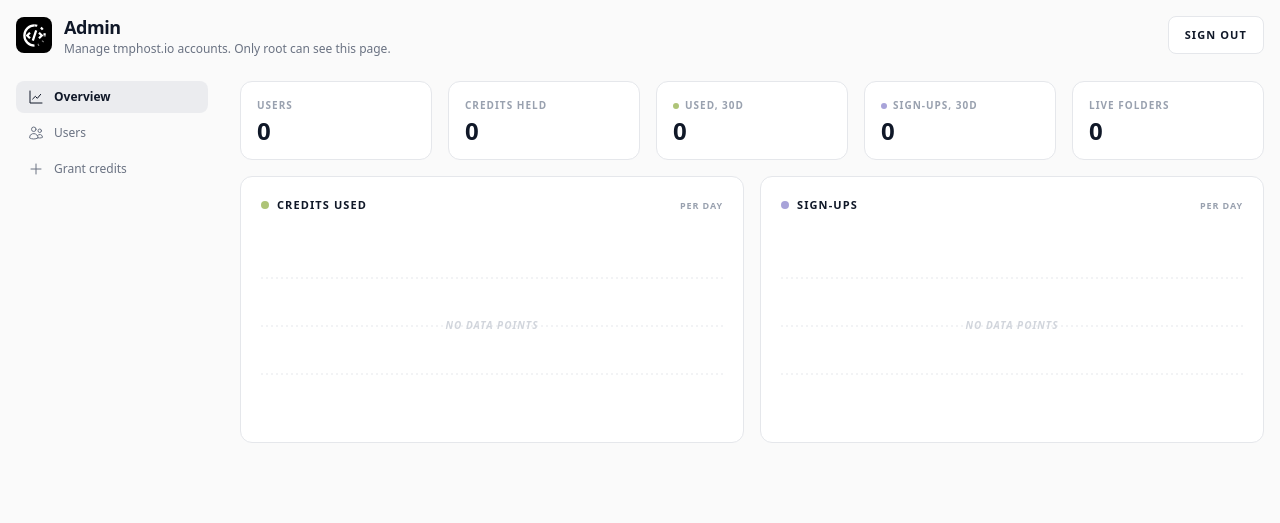
Test case: AdminView › grants credits to one user by email
Click the button with test id "admin-tab-grant".
click(112, 169)  # box [16,153,208,185]
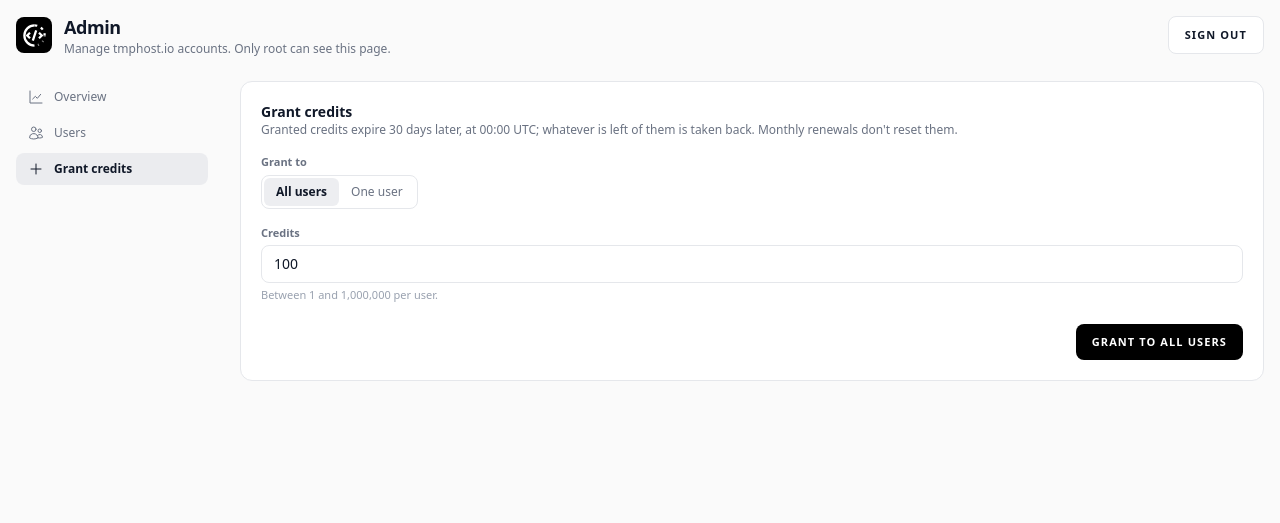
Click the radio button with test id "admin-target-one".
click(377, 192)  # box [339,178,415,206]
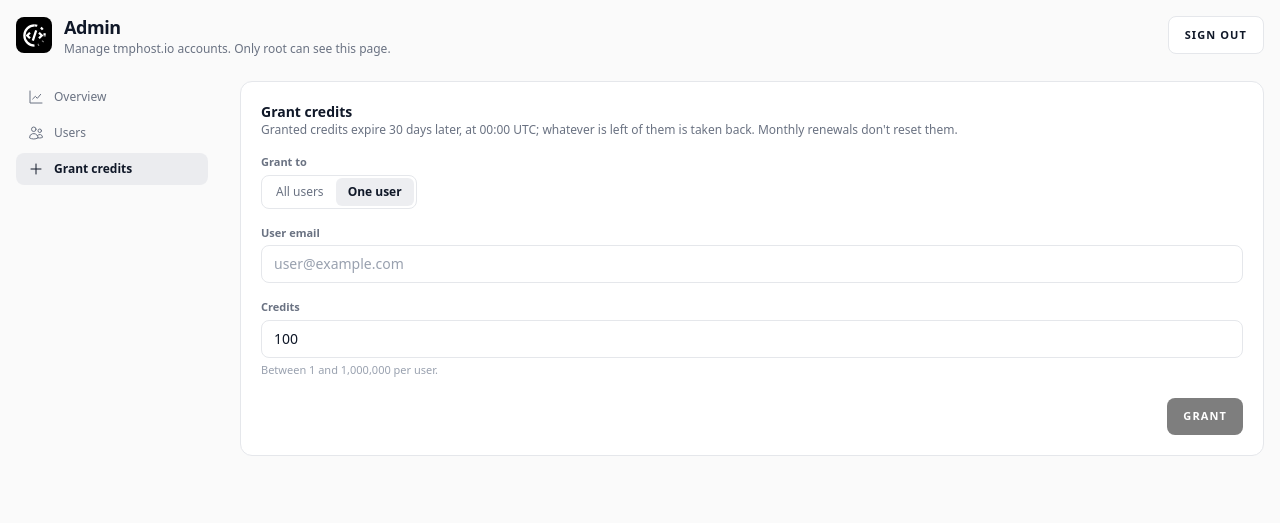
Check: the button with test id "admin-grant-submit" reads "Grant", box [1167,398,1243,434]
Check: the button with test id "admin-grant-submit" is disabled, box [1167,398,1243,434]
Type " a@b.c " into the field with test id "admin-email".
click(752, 264); type(" a@b.c ")  # box [261,245,1243,283]
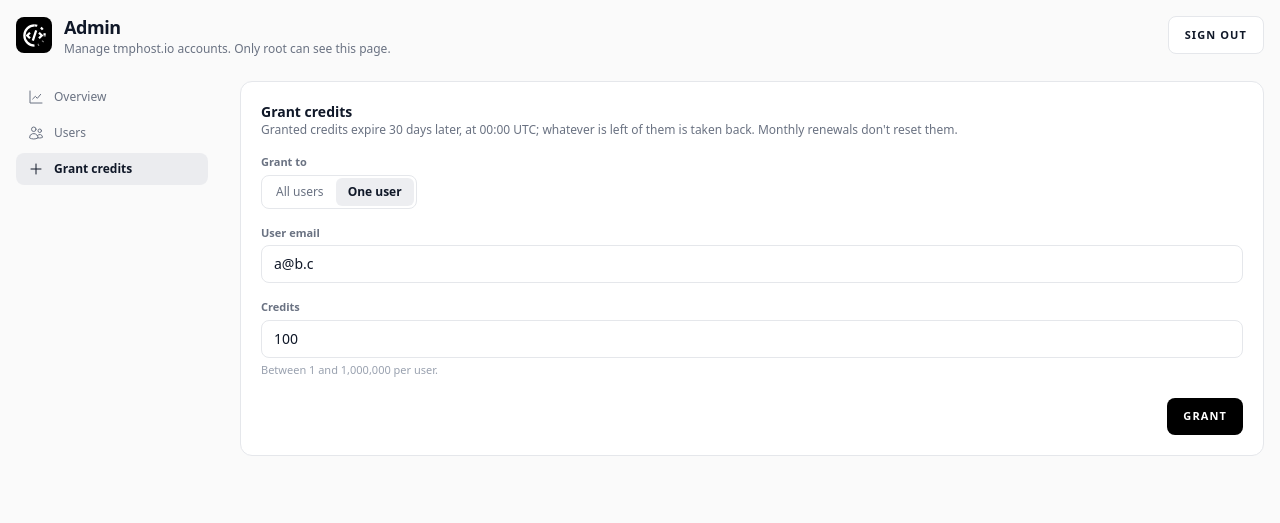
Submit the form with test id "admin-grant", box [240,81,1264,456]
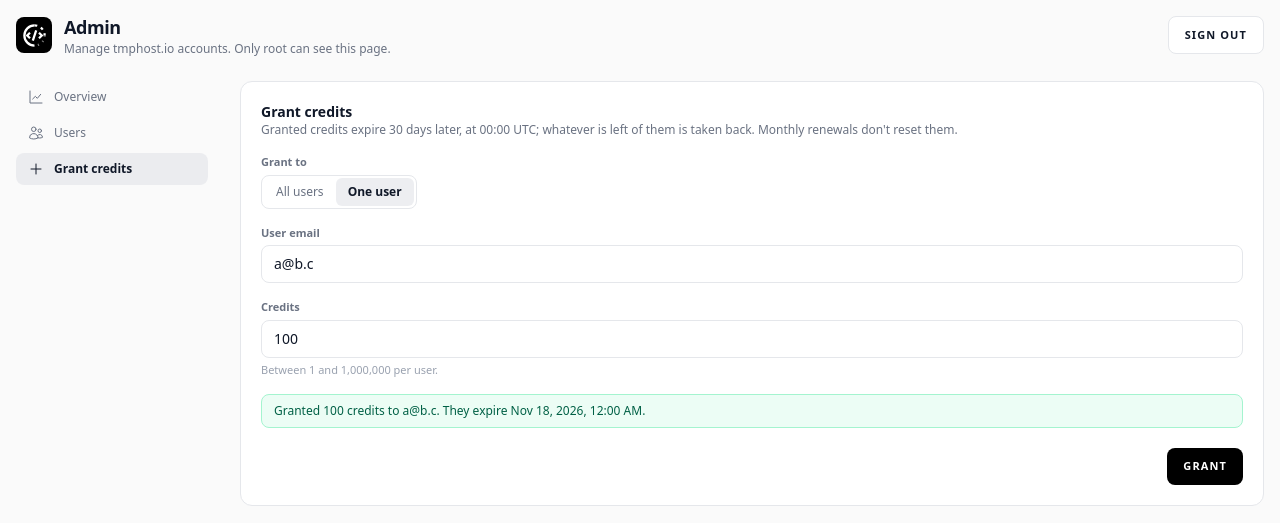
Check: the text with test id "admin-grant-result" shows "Granted 100 credits to a@b.c", box [274,402,645,419]
